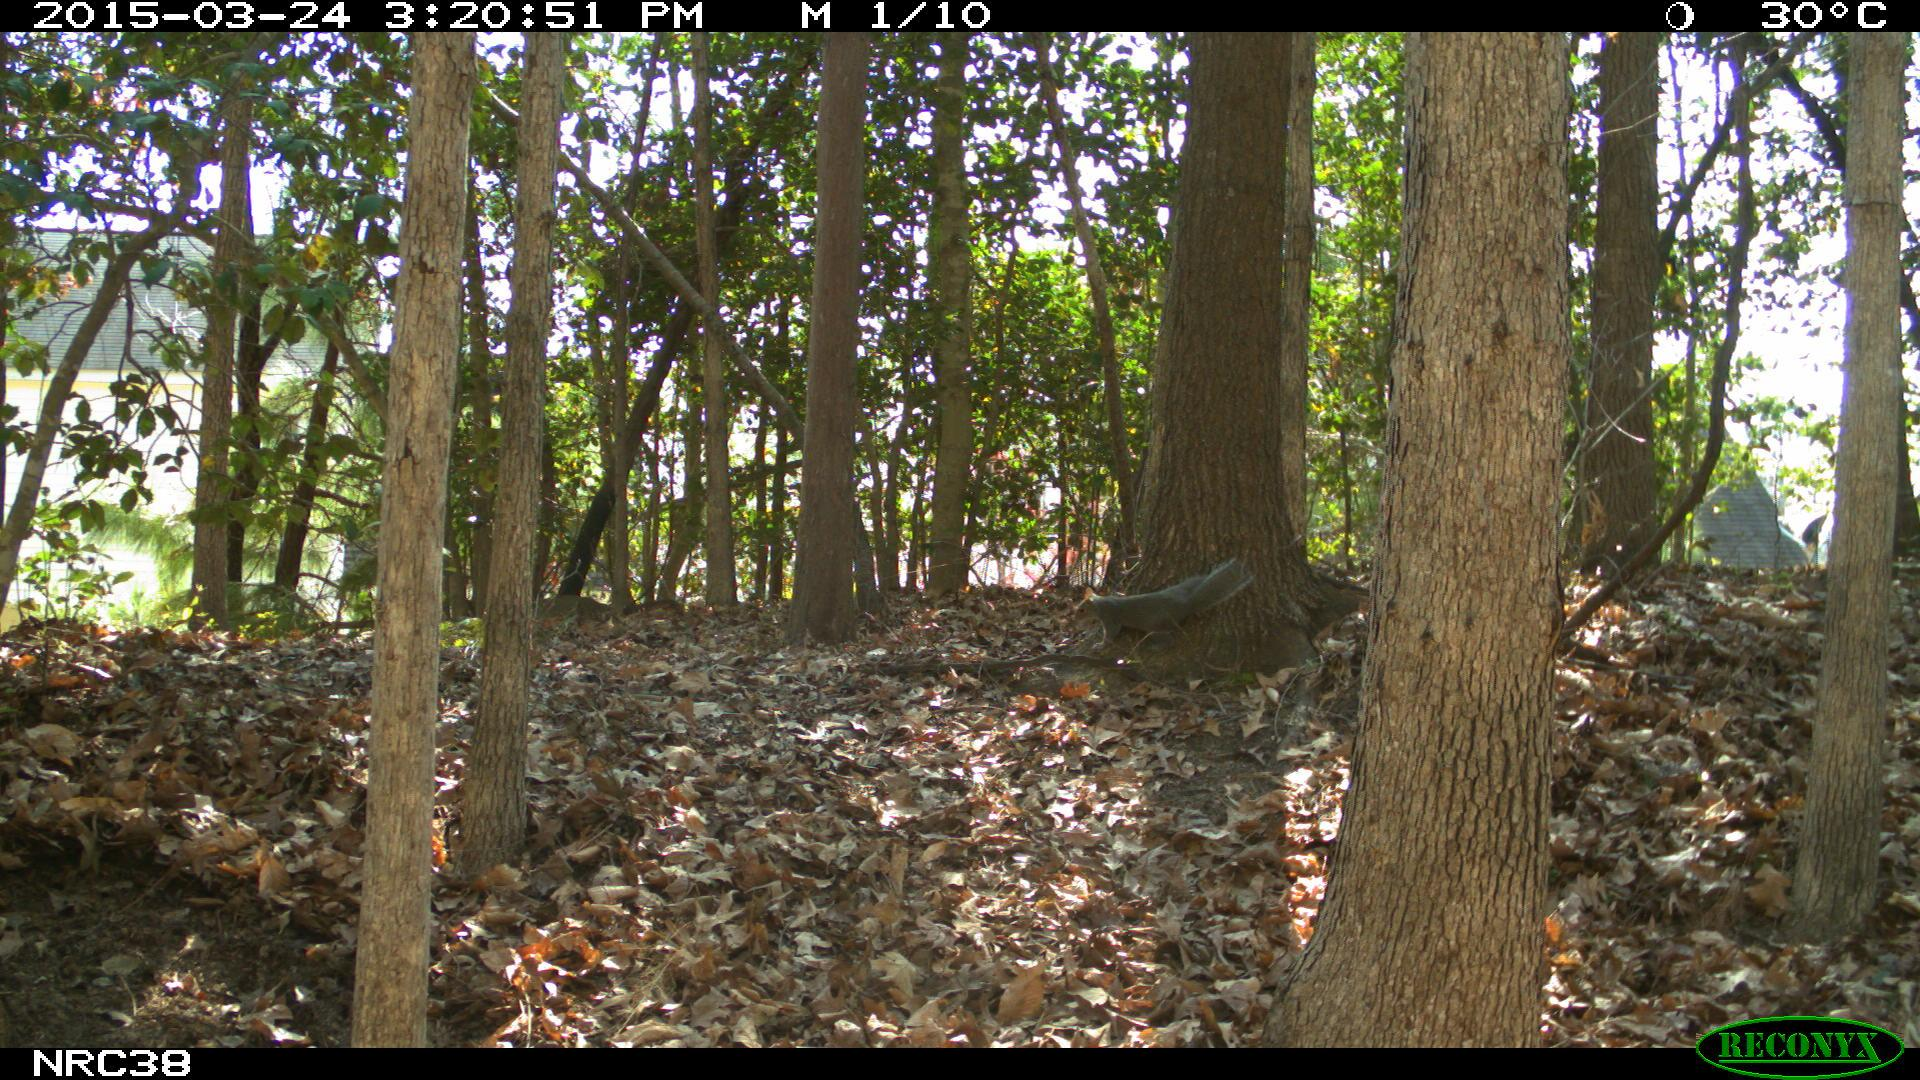Animal: (1077, 556, 1251, 647)
